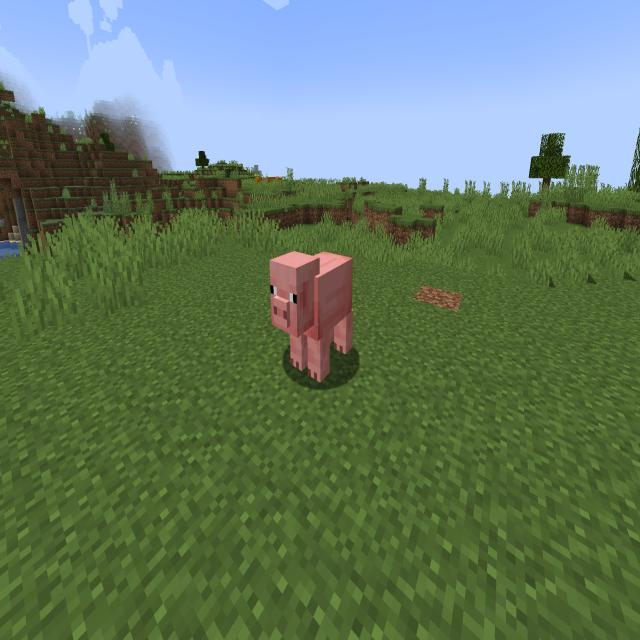pig: (266, 242, 366, 395)
